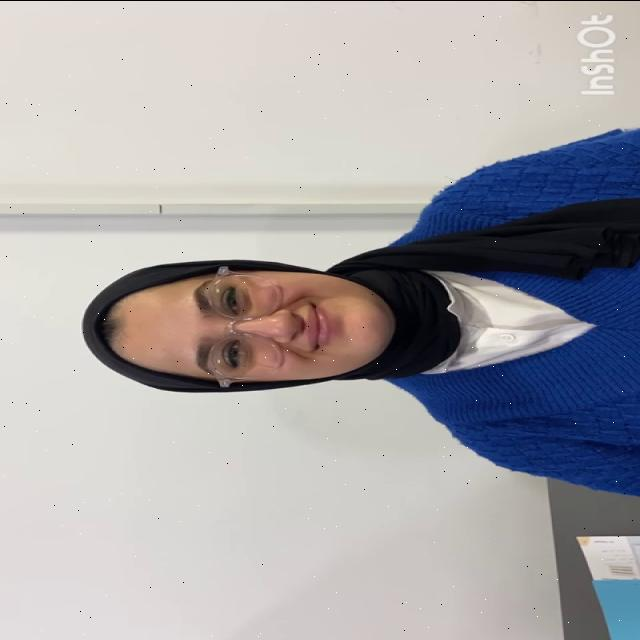happy: (108, 261, 378, 386)
